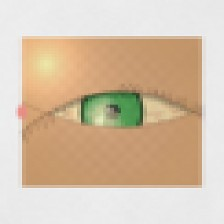corneal_ulcer: (76, 100, 129, 142)
